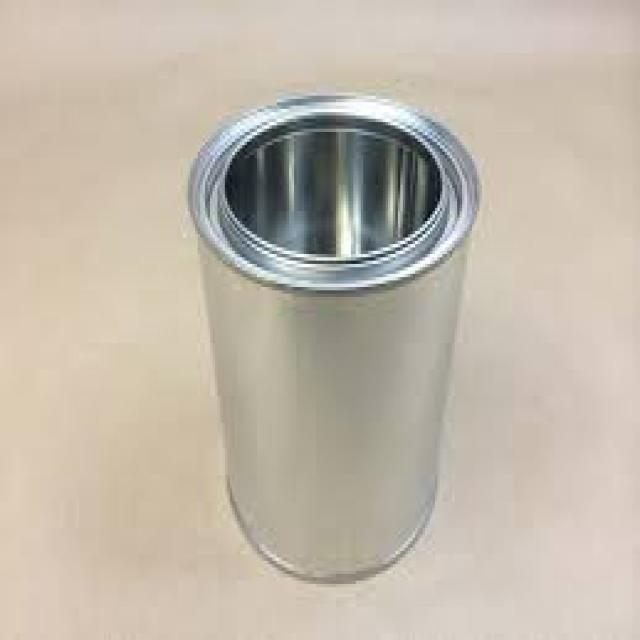metal: (183, 93, 479, 578)
